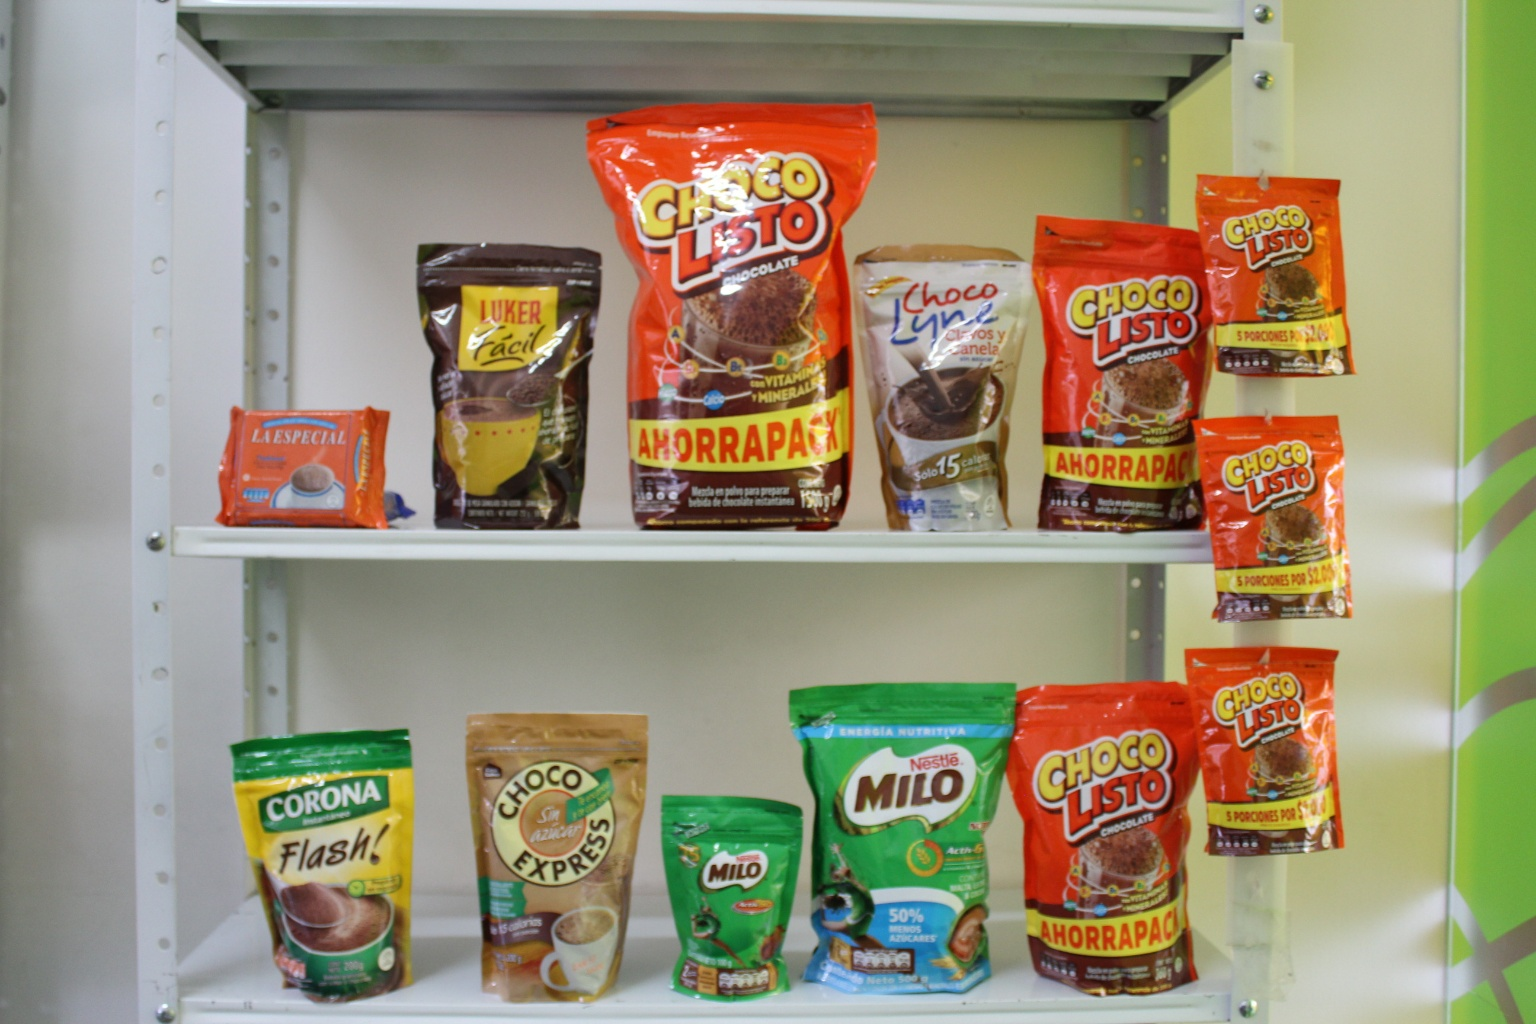COL0170103DYP1,500: (91, 543, 409, 958)
COL0170103DYP36000: (291, 144, 567, 520)
COL0170104DYP20000: (389, 693, 581, 946)
COL0170203DYP10000: (589, 738, 739, 936)
COL0170205DYP50000: (551, 167, 768, 504)
